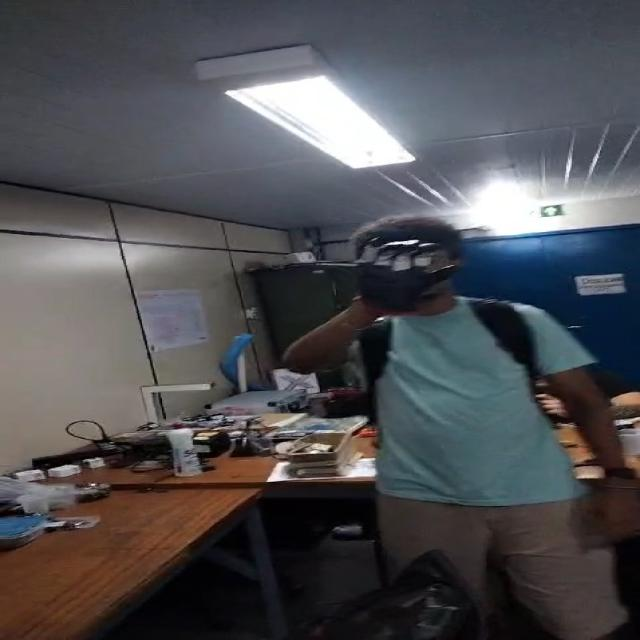Gloves: (348, 235, 459, 312)
